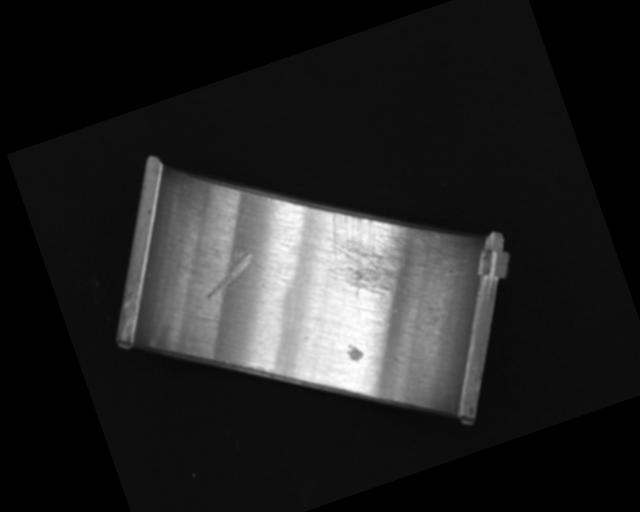bruise: (344, 340, 365, 365)
nick: (195, 246, 261, 300), (229, 204, 273, 280)
scratch: (306, 182, 448, 312)
